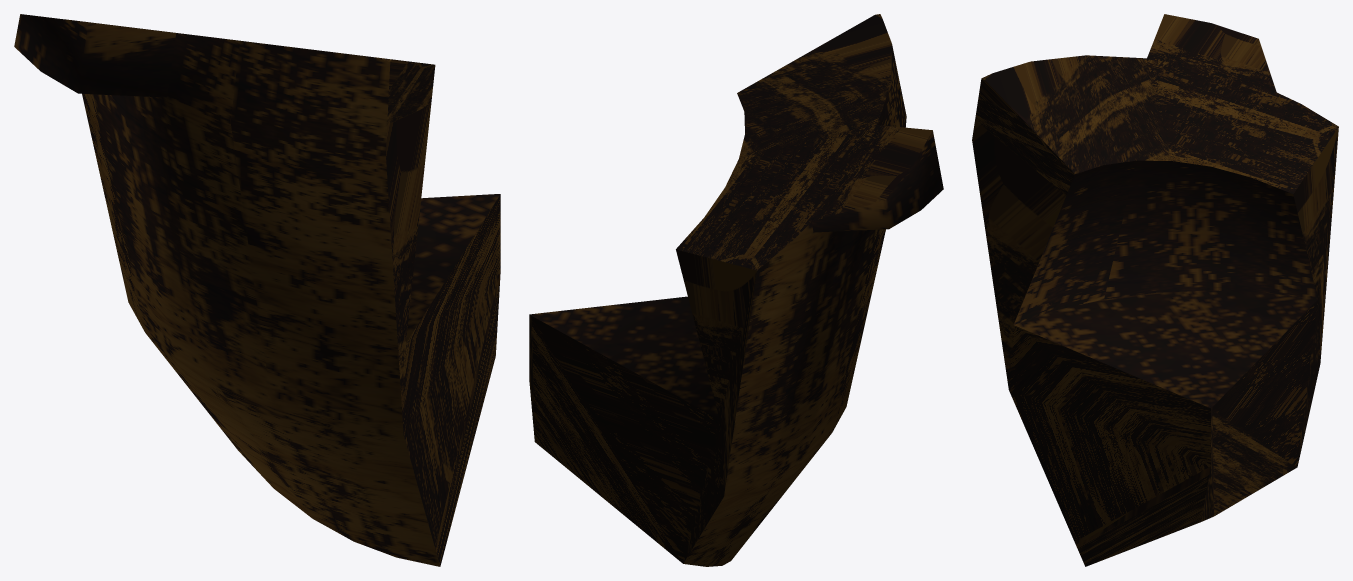
Rendered from PoteryPiece10.fbx.
3 views of the same model, side by side, from view 1: azimuth 30°, elevation 25°; view 2: azimuth 150°, elevation 25°; view 3: azimuth 270°, elevation 25° (orthographic). The views are drawn at different scales.
Parts seen in each view (by area): view 1: Cylinder_cell.009; view 2: Cylinder_cell.009; view 3: Cylinder_cell.009.
Boxes of the visible parts, x1,y1,x2,y2 form: Cylinder_cell.009: [14, 14, 500, 566]; Cylinder_cell.009: [529, 14, 943, 566]; Cylinder_cell.009: [972, 14, 1338, 566].
Size of the model in its own units: 177 by 215 by 160.
